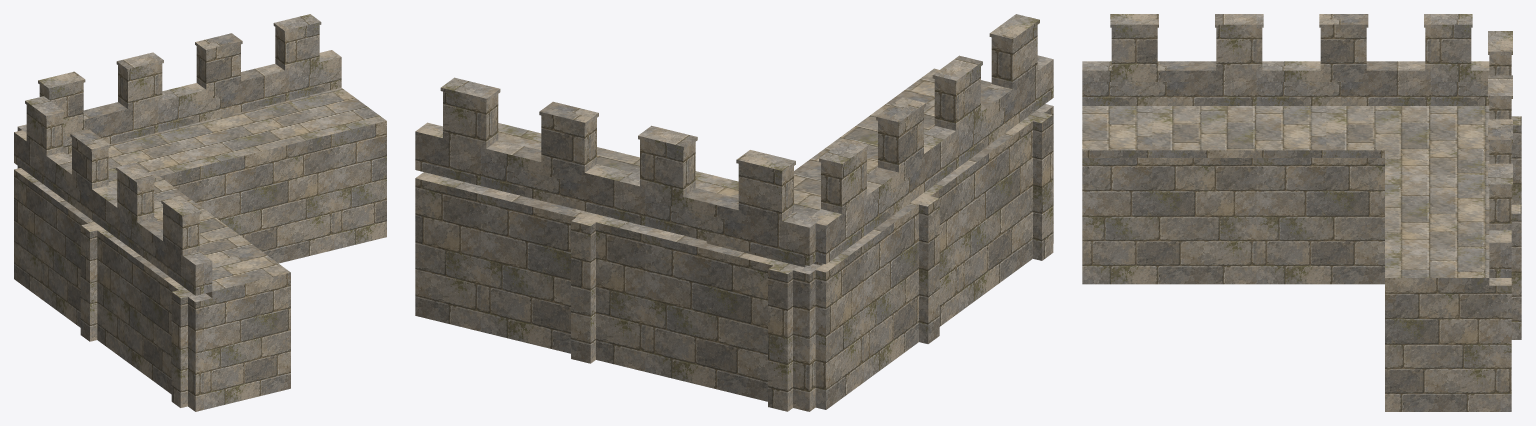
The model's file is castle-curtain-corner.gltf.
3 views of the same model, side by side, from view 1: azimuth 30°, elevation 25°; view 2: azimuth 150°, elevation 25°; view 3: azimuth 270°, elevation 25° (orthographic). The views are drawn at different scales.
Parts seen in each view (by area): view 1: curtain-L0-stone, walkway-L1-stone; view 2: curtain-L0-stone, walkway-L1-stone; view 3: curtain-L0-stone, walkway-L1-stone.
Part boxes in pixels (bbox=[...]): curtain-L0-stone: bbox=[14, 14, 386, 411]; walkway-L1-stone: bbox=[67, 87, 386, 297]; curtain-L0-stone: bbox=[415, 14, 1053, 411]; walkway-L1-stone: bbox=[498, 68, 991, 267]; curtain-L0-stone: bbox=[1082, 14, 1521, 411]; walkway-L1-stone: bbox=[1082, 106, 1489, 285].
Size of the model in its own units: 6.3 by 3.42 by 6.3.
1 material, 1 textured.
